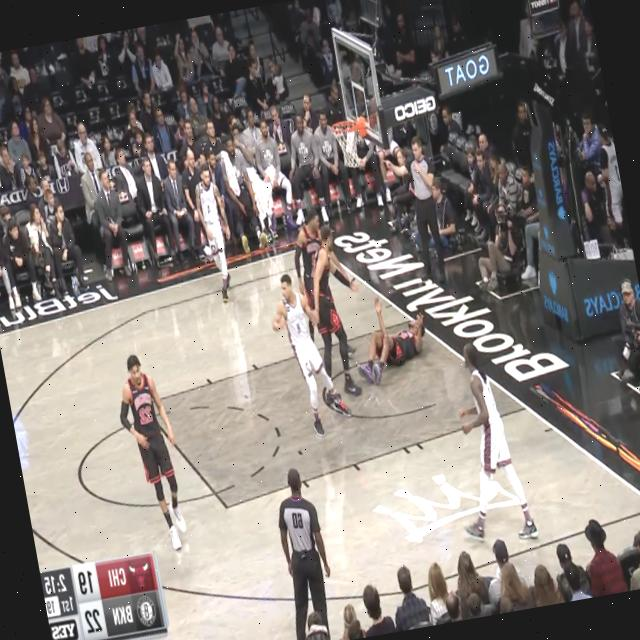no foul: (262, 203, 368, 439)
